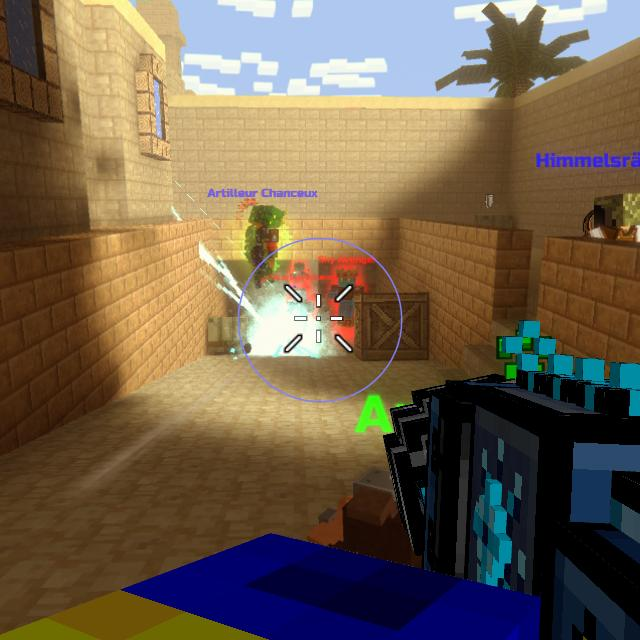Enemy: (329, 270, 362, 326), (287, 288, 316, 318)
